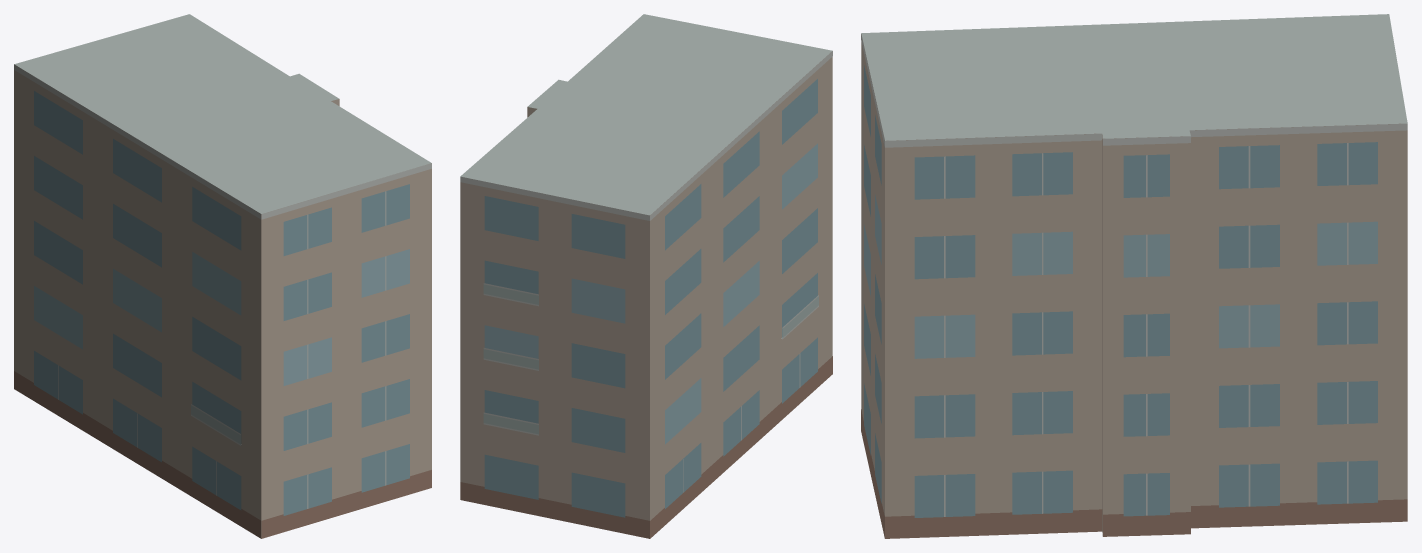
Rendered from survey-upis-32628595.glb.
3 views of the same model, side by side, from view 1: azimuth 30°, elevation 25°; view 2: azimuth 150°, elevation 25°; view 3: azimuth 270°, elevation 25° (orthographic). The views are drawn at different scales.
Parts seen in each view (by area): view 1: survey-upis-32628595.tmp; view 2: survey-upis-32628595.tmp; view 3: survey-upis-32628595.tmp.
Part boxes in pixels (x1,y1,x2,y2): survey-upis-32628595.tmp: [14, 14, 431, 538]; survey-upis-32628595.tmp: [460, 14, 832, 538]; survey-upis-32628595.tmp: [861, 14, 1407, 538].
Size of the model in its own units: 9.58 by 14 by 17.43.
